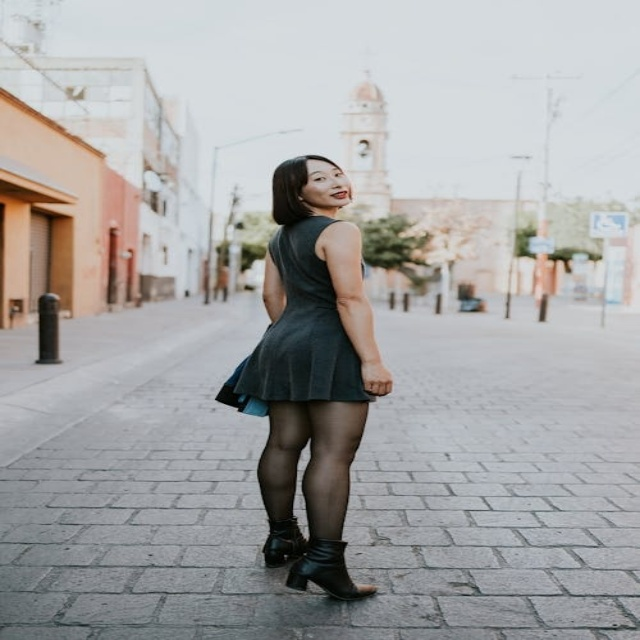Sin_gafas: (305, 166, 346, 185)
Sin_guantes: (357, 356, 398, 395)
Sin_mascara: (321, 187, 353, 206)
